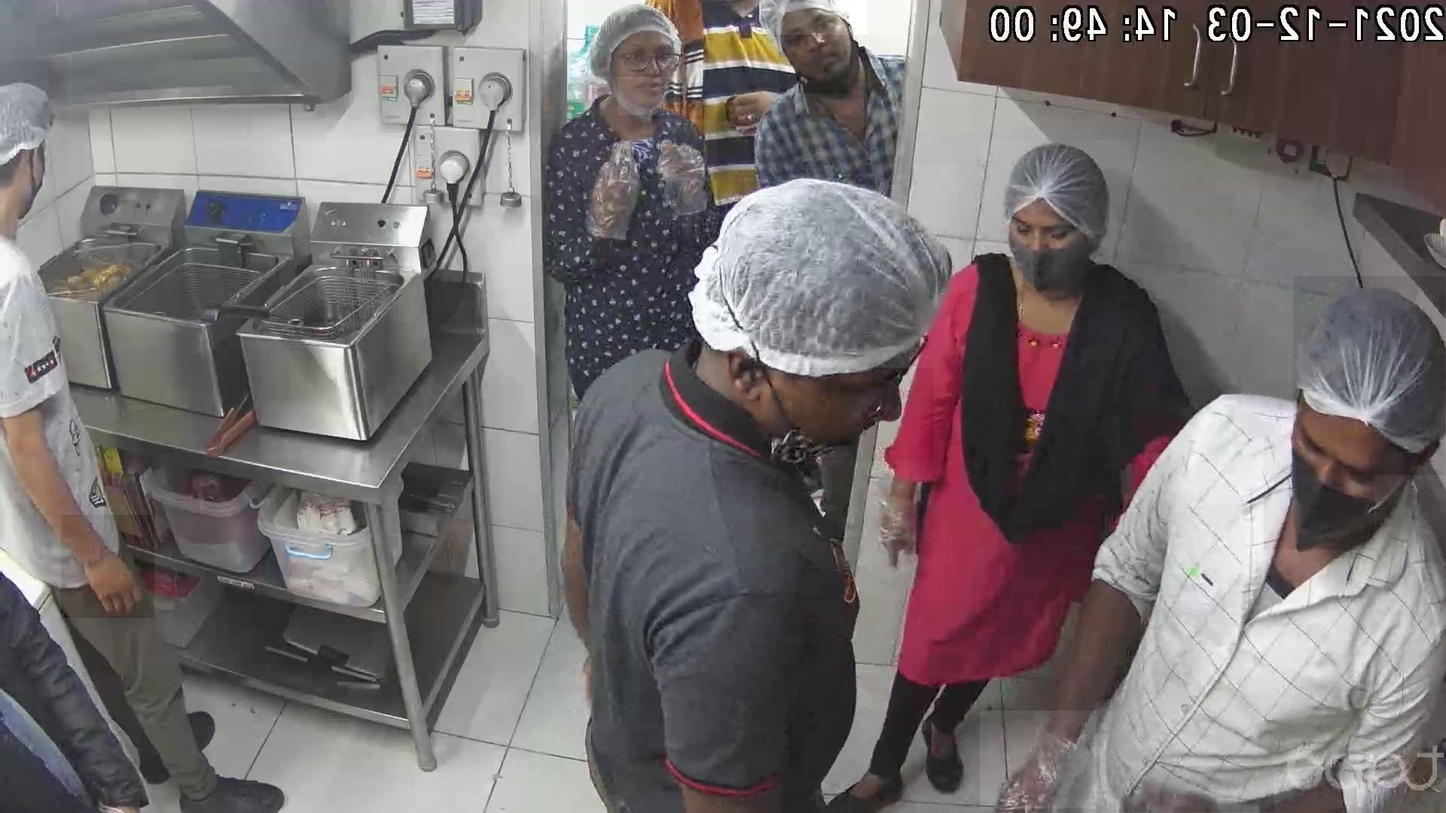apron: (980, 711, 1097, 809), (589, 139, 655, 256), (1113, 766, 1274, 813), (865, 467, 938, 569), (651, 119, 717, 226)
gloves: (703, 164, 958, 368), (1294, 277, 1446, 476), (980, 141, 1130, 258), (0, 61, 67, 179), (585, 0, 686, 77), (741, 0, 867, 35)
hairnet: (758, 355, 934, 477), (779, 9, 864, 98), (618, 24, 680, 115)
mask: (1264, 435, 1375, 550), (1003, 213, 1094, 289)
no_apron: (61, 515, 154, 618), (718, 84, 787, 138)
